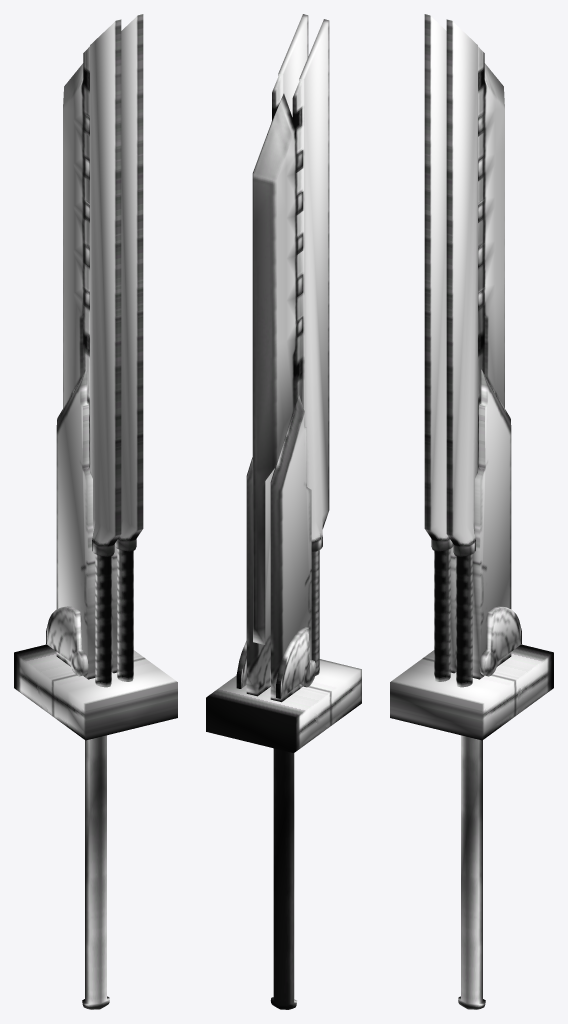
File: buster_sword_13c7a3f7.glb
3 renders of one model, left to right at view 1: azimuth 30°, elevation 25°; view 2: azimuth 150°, elevation 25°; view 3: azimuth 330°, elevation 25°, orthographic. The views are drawn at different scales.
Size of the model in its own units: 0.2885 by 3.04 by 0.3868.
Materials: 1 (1 with a texture image).
